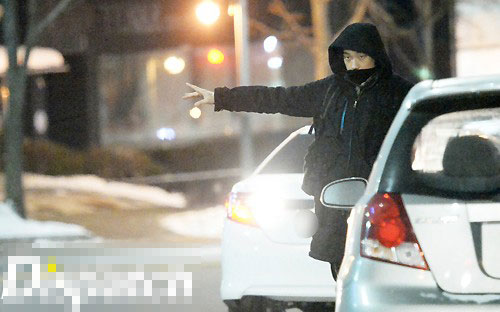face: (343, 44, 373, 82)
